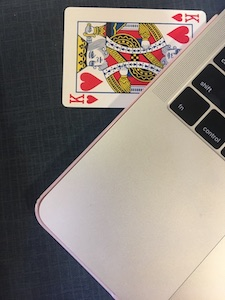KingOfHearts: (51, 4, 210, 109)
